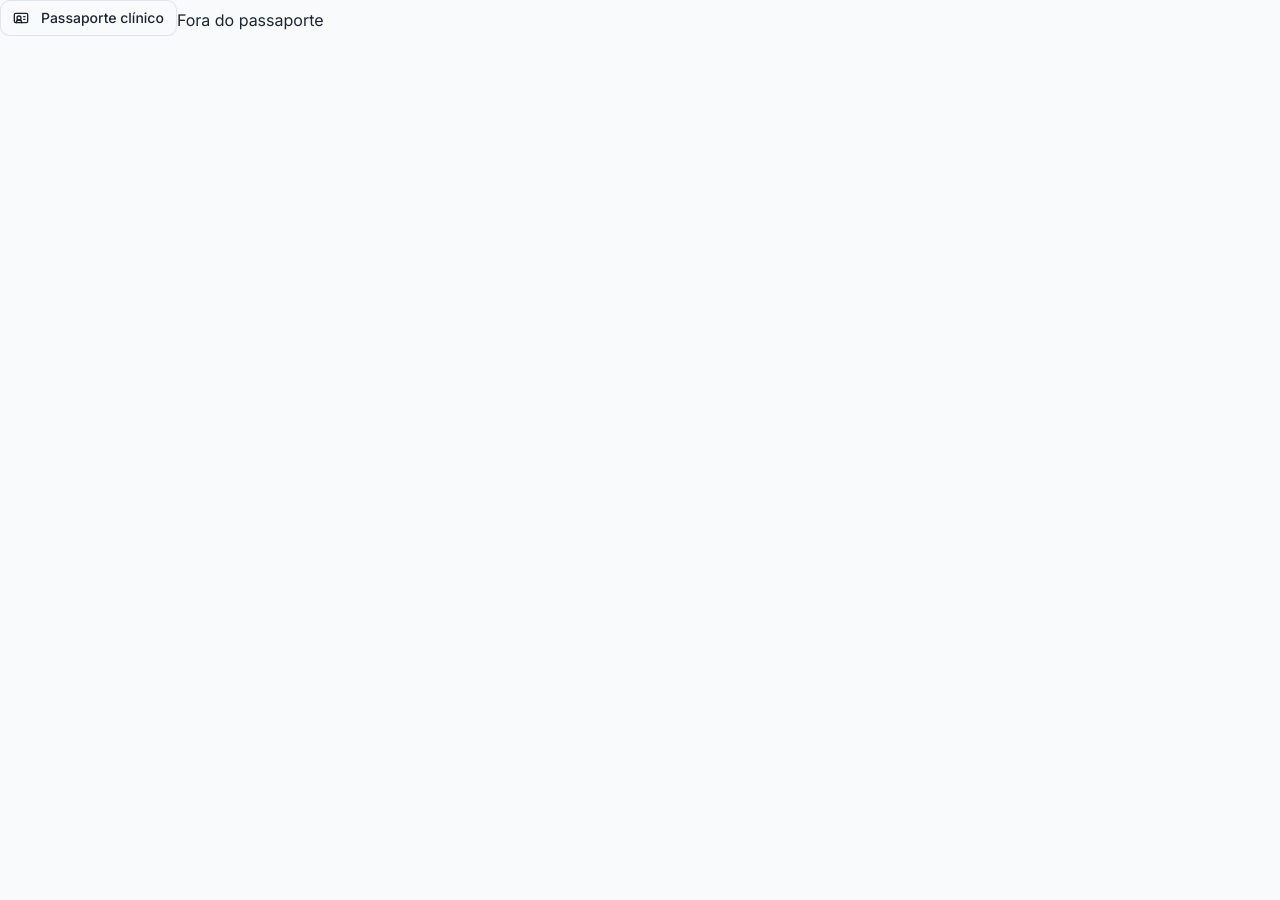
Scenario: Passaporte Clínico: fechamento e foco › informa abertura, fechamento e desmontagem para a lista manter o cartão
Later steps or results of the test are not shown.
Click the button with aria-label "Abrir passaporte clínico do paciente" at point(88, 18), box [0, 0, 177, 36]
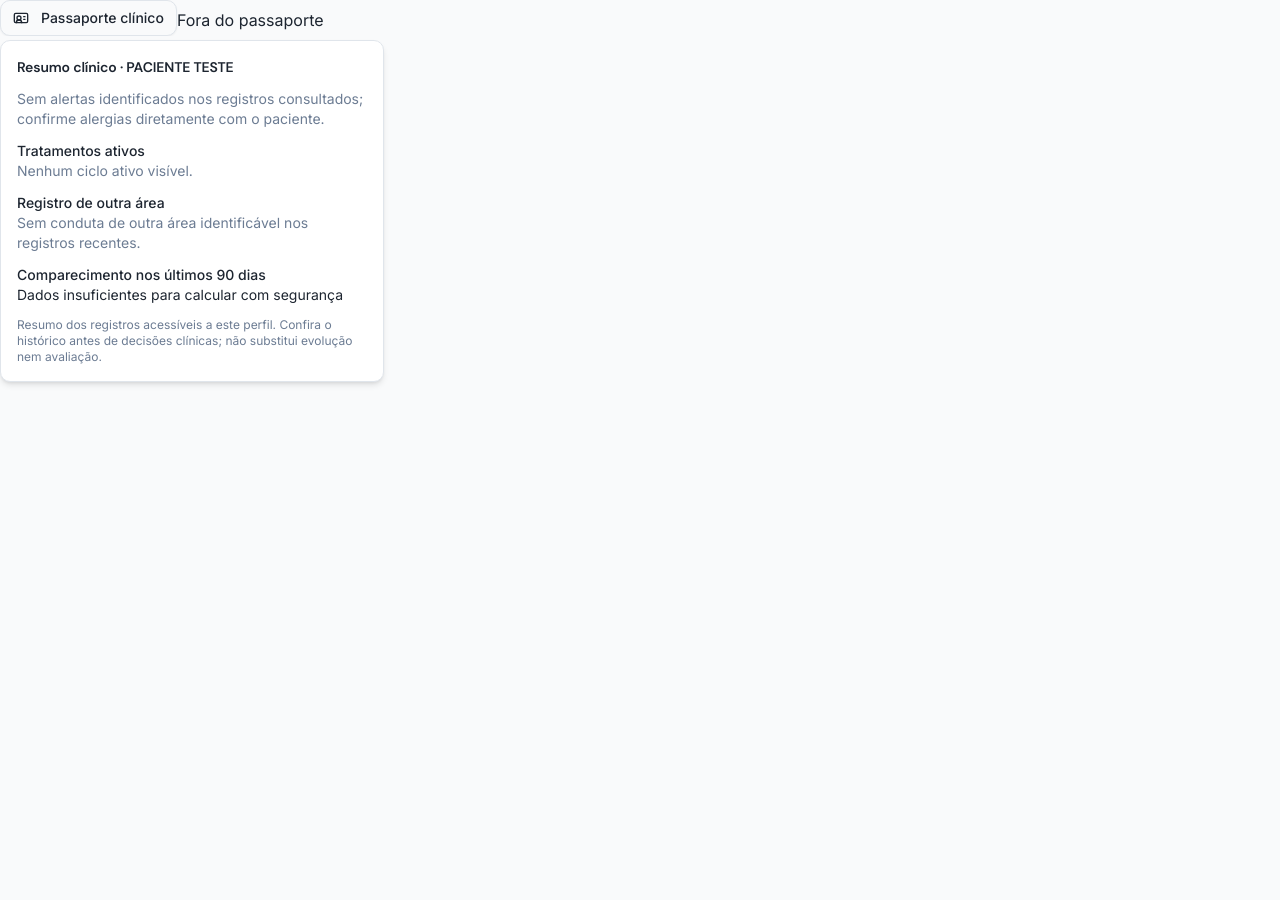
Check: the heading "Resumo clínico · PACIENTE TESTE" is shown, box [17, 58, 234, 76]
